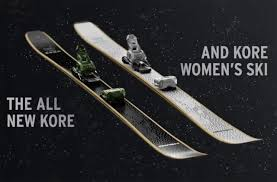skis: (24, 20, 263, 163)
